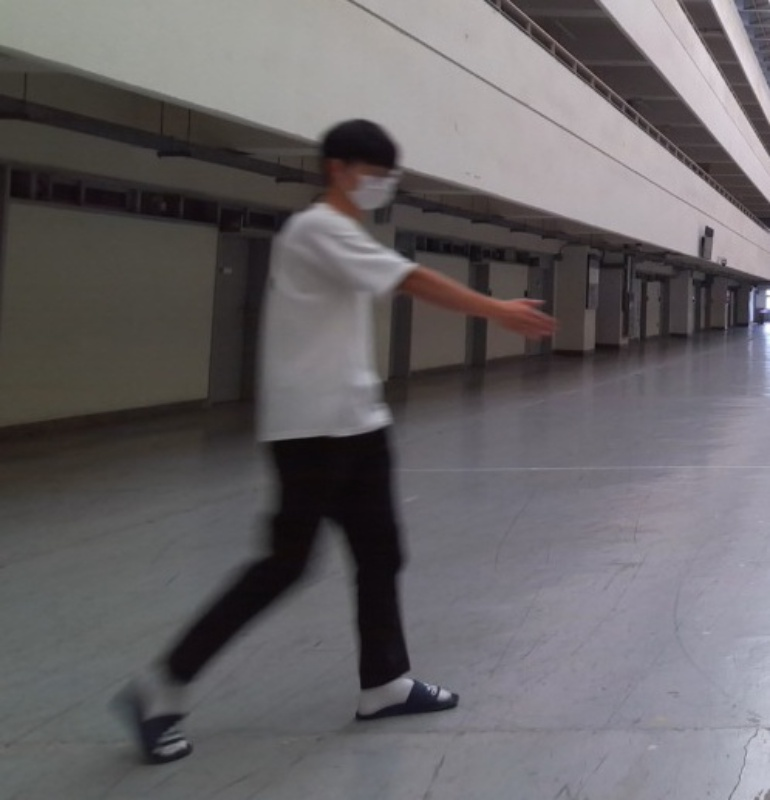person: (101, 119, 566, 767)
